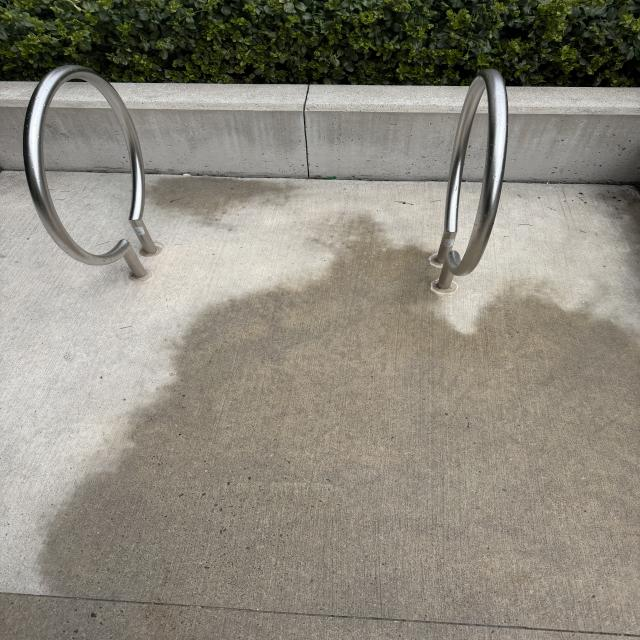Bicycle Rack: (21, 57, 162, 280), (431, 69, 509, 294)
